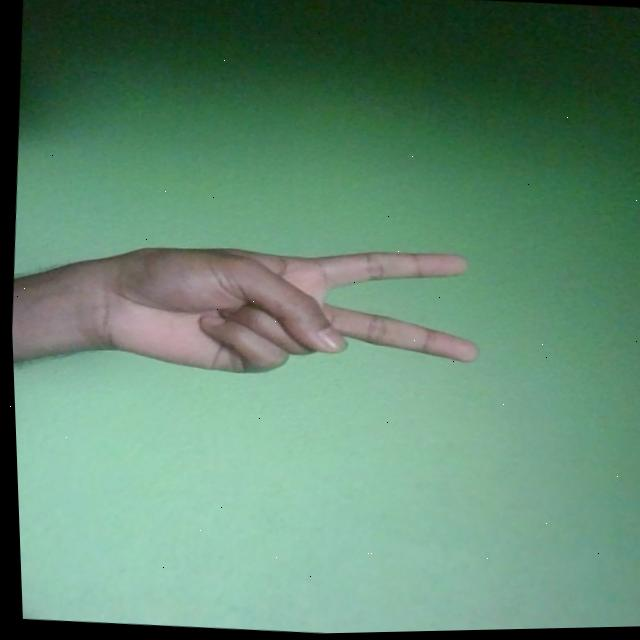Peace: (83, 231, 482, 393)
